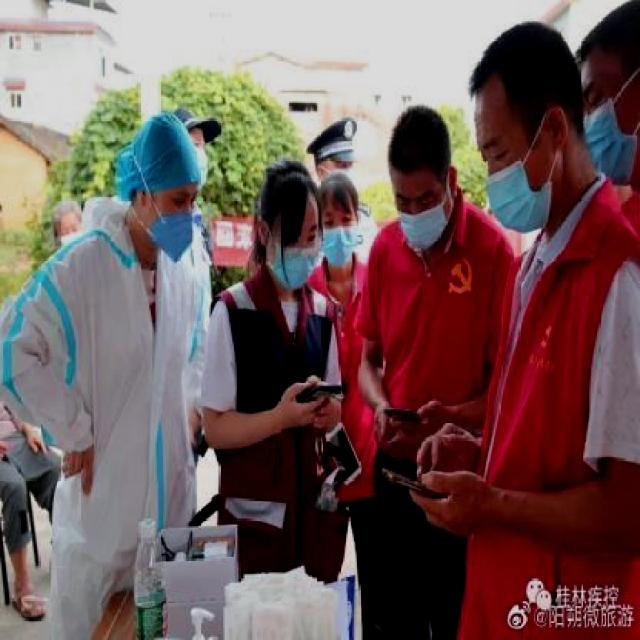face_mask: (472, 104, 566, 224), (575, 51, 640, 171), (394, 171, 454, 252), (142, 180, 204, 258), (274, 208, 321, 290), (312, 205, 363, 268)
hand_noglove: (409, 471, 488, 538), (415, 423, 480, 477), (394, 400, 448, 452), (282, 377, 323, 432), (371, 408, 402, 460), (61, 448, 95, 494), (314, 397, 341, 437), (23, 423, 51, 455), (186, 406, 200, 445), (0, 438, 6, 462)
head_nohelmet: (456, 28, 564, 112), (125, 104, 204, 190), (383, 106, 449, 189), (248, 154, 322, 214), (312, 172, 374, 212)
person: (12, 117, 234, 640), (452, 32, 640, 640), (344, 94, 516, 640), (198, 161, 366, 640)
